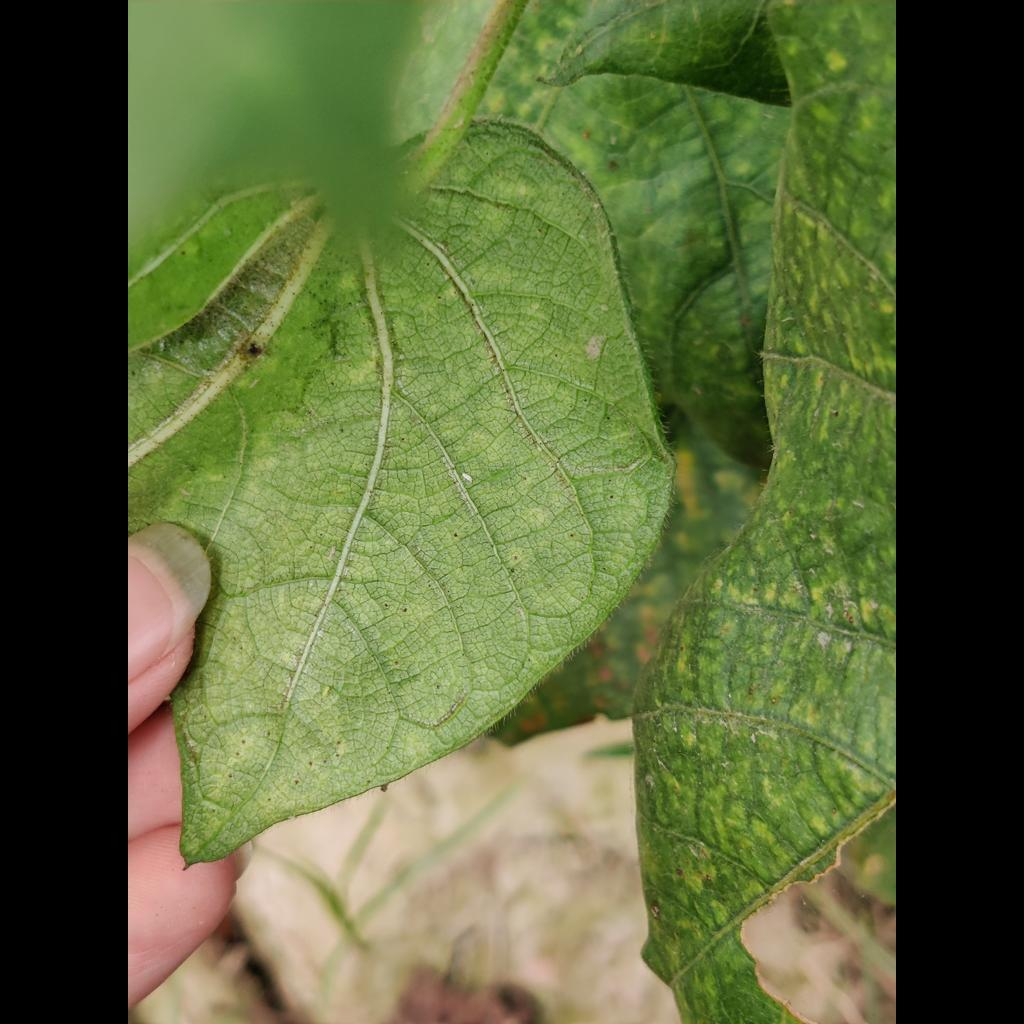adult: (462, 473, 473, 481)
nymph: (600, 303, 609, 311)
